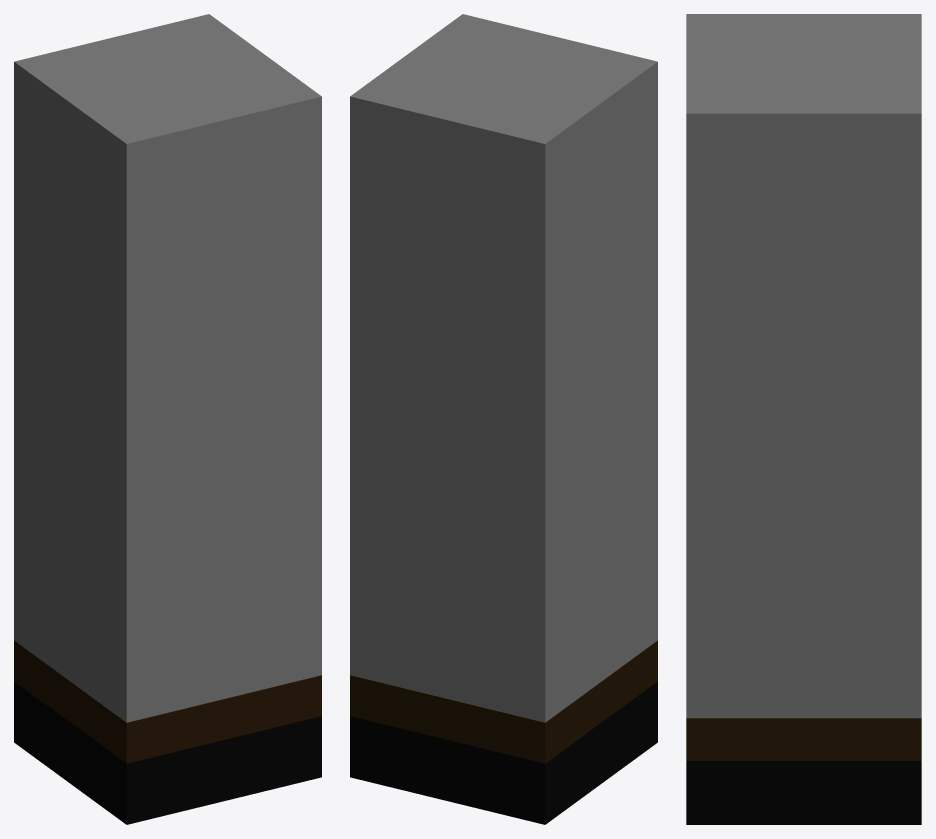
Rendered from bossgolem-0.obj.
3 renders of one model, left to right at view 1: azimuth 30°, elevation 25°; view 2: azimuth 150°, elevation 25°; view 3: azimuth 270°, elevation 25°, orthographic. The views are drawn at different scales.
Bounding box in the file's own units: 3 × 10 × 3.
1 material, 1 textured.
